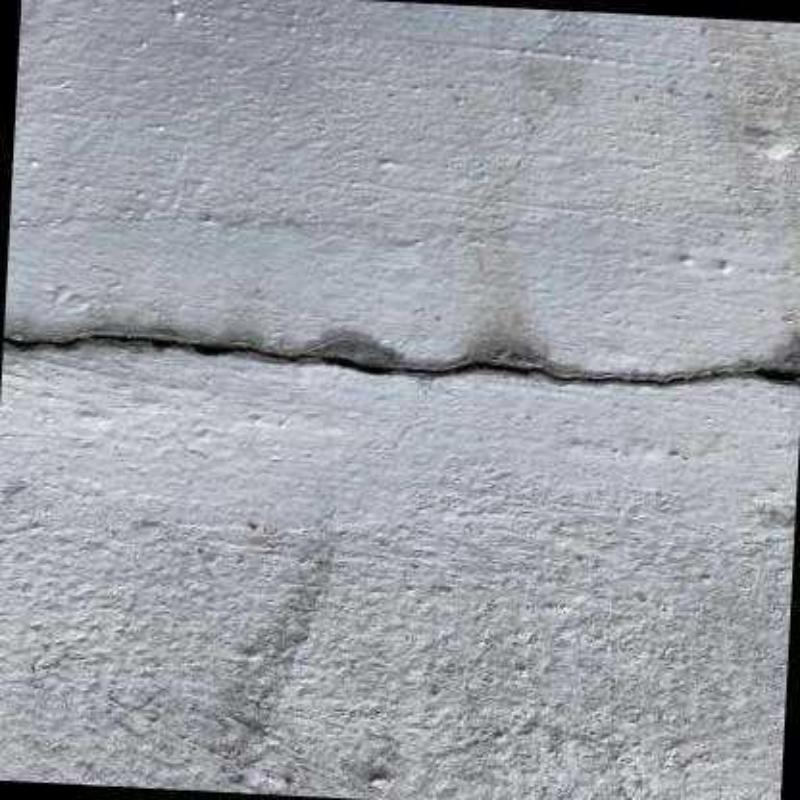pothole: (3, 331, 800, 386)
